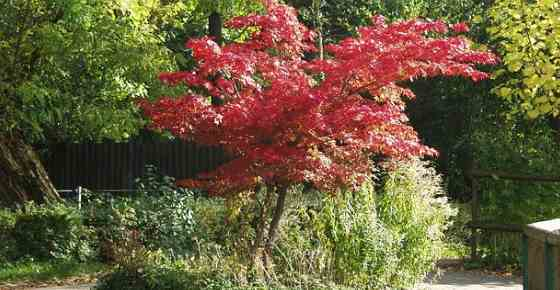tree: (146, 13, 484, 253)
